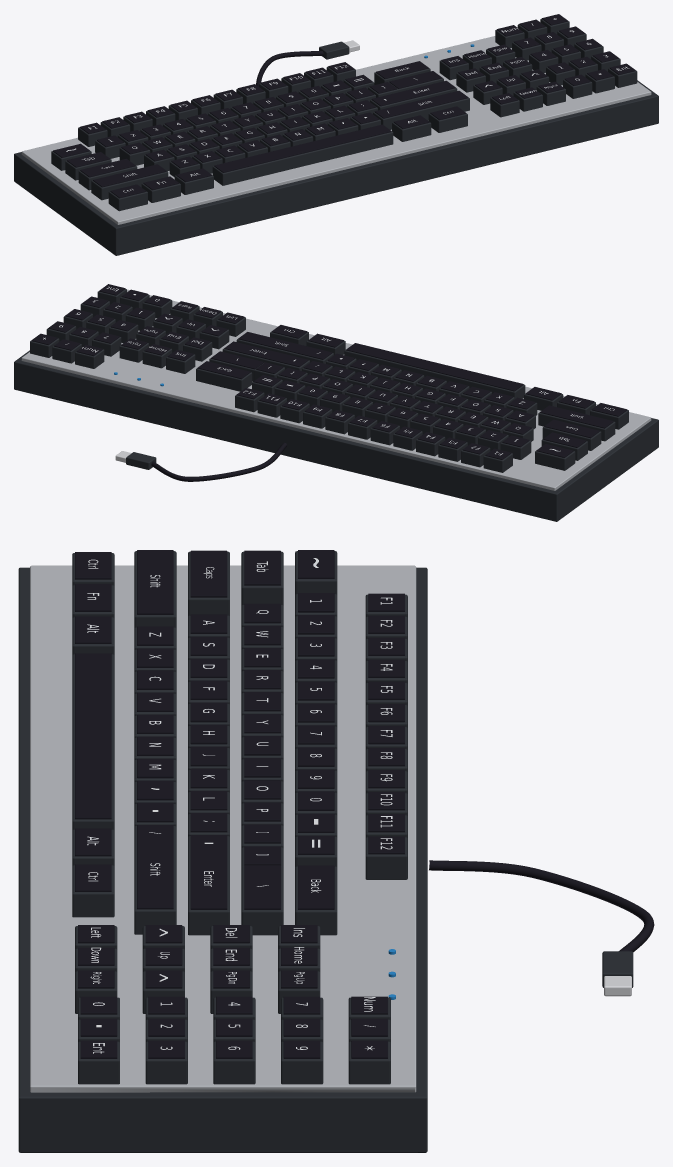
File: keyboard.glb
3 renders of one model, top to bottom at view 1: azimuth 30°, elevation 25°; view 2: azimuth 150°, elevation 25°; view 3: azimuth 270°, elevation 25°, orthographic. The views are drawn at different scales.
Visible parts, largest first — view 1: Keyboard base, Brushed deck, Keycap, Key top, Key top Shift (×2), Keycap Shift (×2), Keycap Ctrl (×2), Keycap Alt (×2), Key top Enter, Key top Caps, Keycap Fn, Key top \ (+7 smaller); view 2: Keyboard base, Brushed deck, Key top, Key top Shift (×2), Keycap, Keyboard USB cable, Keycap Back, Key top Enter, Keycap Shift, Keycap ~, Key top Caps, Key top Back (+10 smaller); view 3: Brushed deck, Keyboard base, Key top, Key top Shift (×2), Keyboard USB cable, Key top Enter, Keycap Shift (×2), Key top Alt (×2), Key top Ctrl (×2), Key top Caps, Key top \, Key top Back (+16 smaller).
Boxes of the visible parts, x1,y1,x2,y2 form: Keyboard base: [14, 80, 658, 255]; Brushed deck: [21, 36, 651, 224]; Keycap: [212, 131, 393, 185]; Key top: [214, 124, 391, 172]; Key top Shift (×2): [93, 90, 468, 187]; Keycap Shift (×2): [91, 97, 469, 200]; Keycap Ctrl (×2): [108, 113, 467, 211]; Keycap Alt (×2): [174, 122, 431, 194]; Key top Enter: [388, 80, 455, 101]; Key top Caps: [80, 158, 135, 177]; Keycap Fn: [141, 183, 180, 202]; Key top \: [389, 71, 442, 88]; Keyboard base: [14, 350, 658, 521]; Brushed deck: [21, 289, 651, 490]; Key top: [346, 343, 523, 391]; Key top Shift (×2): [238, 332, 613, 428]; Keycap: [344, 350, 525, 399]; Keyboard USB cable: [151, 442, 287, 481]; Keycap Back: [196, 368, 252, 391]; Key top Enter: [224, 341, 291, 362]; Keycap Shift: [538, 412, 615, 441]; Keycap ~: [535, 450, 575, 470]; Key top Caps: [544, 419, 599, 438]; Key top Back: [197, 361, 250, 379]; Brushed deck: [30, 565, 416, 1092]; Keyboard base: [18, 567, 427, 1152]; Key top: [75, 653, 111, 819]; Key top Shift (×2): [137, 550, 173, 909]; Keyboard USB cable: [429, 860, 654, 952]; Key top Enter: [190, 851, 227, 909]; Keycap Shift (×2): [134, 551, 176, 934]; Key top Alt (×2): [75, 616, 111, 856]; Key top Ctrl (×2): [75, 552, 111, 891]; Key top Caps: [190, 550, 227, 597]; Key top \: [244, 865, 280, 909]; Key top Back: [298, 865, 334, 909].
Size of the model in its own units: 0.445 by 0.0349 by 0.2254.
85 materials, 84 textured.
